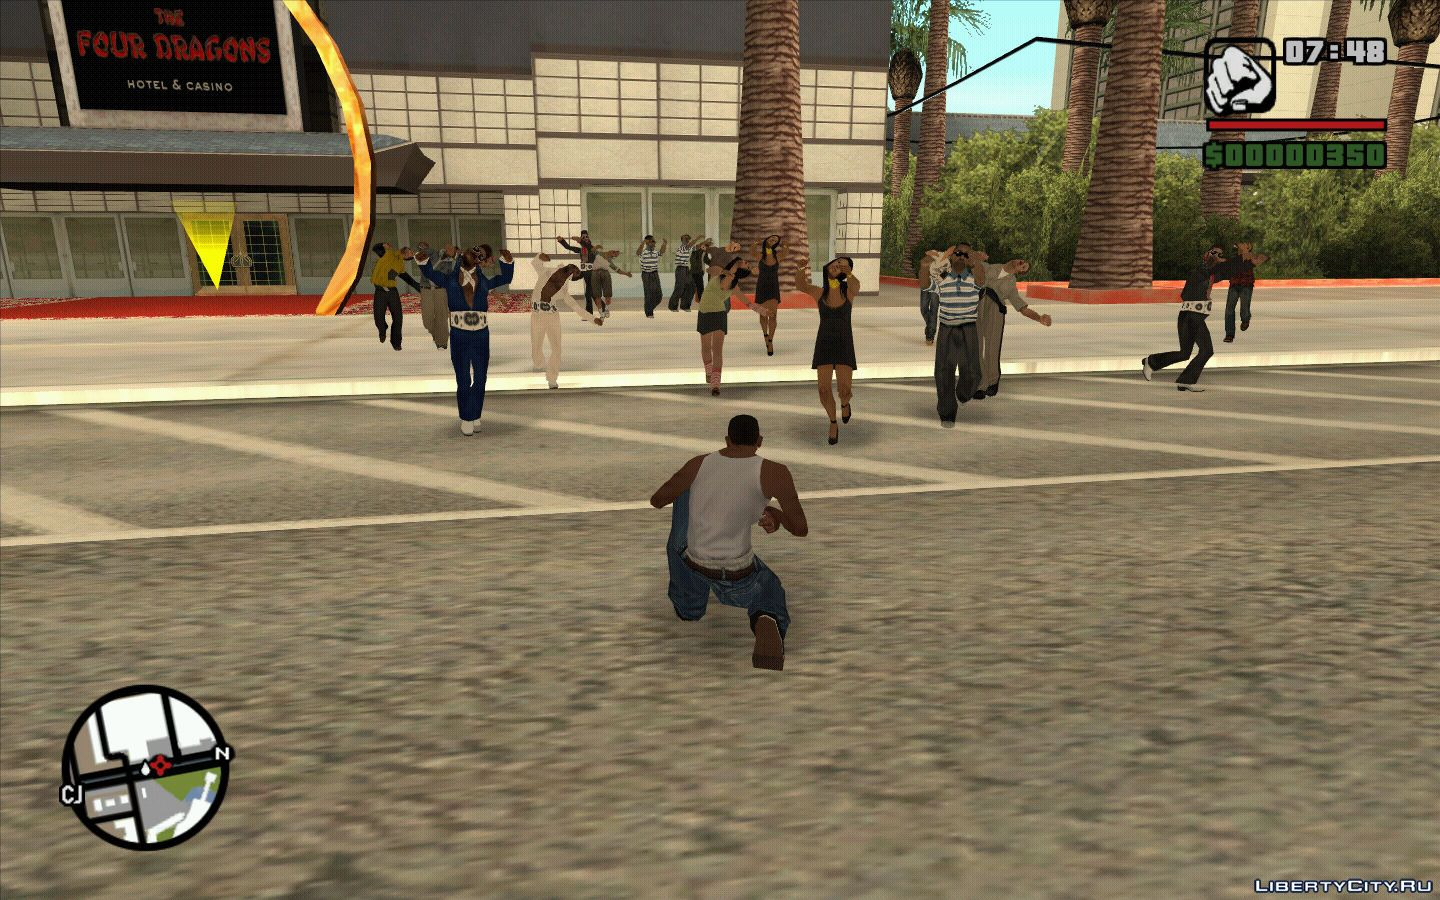person: (924, 244, 993, 446), (435, 246, 507, 441), (797, 261, 867, 450), (1168, 235, 1226, 399), (530, 249, 589, 398), (700, 257, 745, 392), (367, 238, 420, 353), (750, 230, 791, 372), (630, 234, 669, 325), (580, 240, 614, 324)
